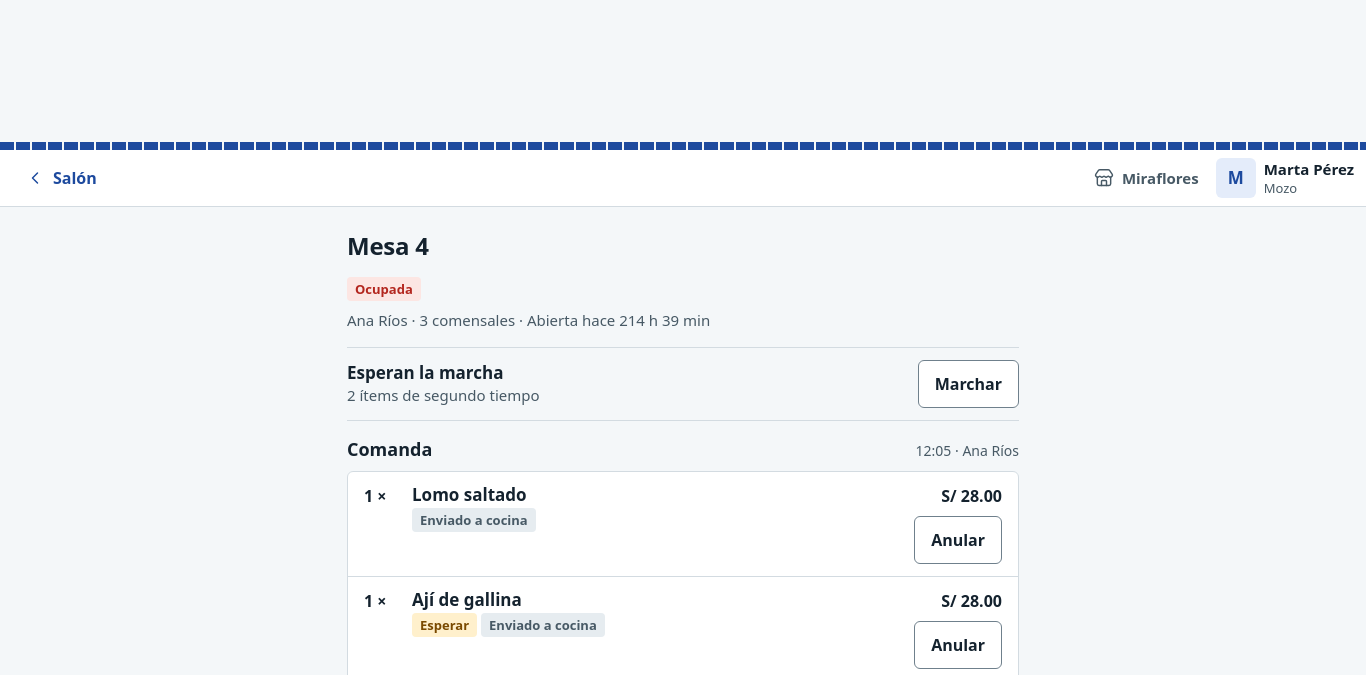
Scenario: Marchar (criterios 32 y 33) › sin red sale una sola vez: la misma clave y el mismo id en cada intento
The width and height of the screenshot is (1366, 675).
(page scrolled)
Step 1. Click the button "Marchar" → (968, 384), box [918, 360, 1019, 408]
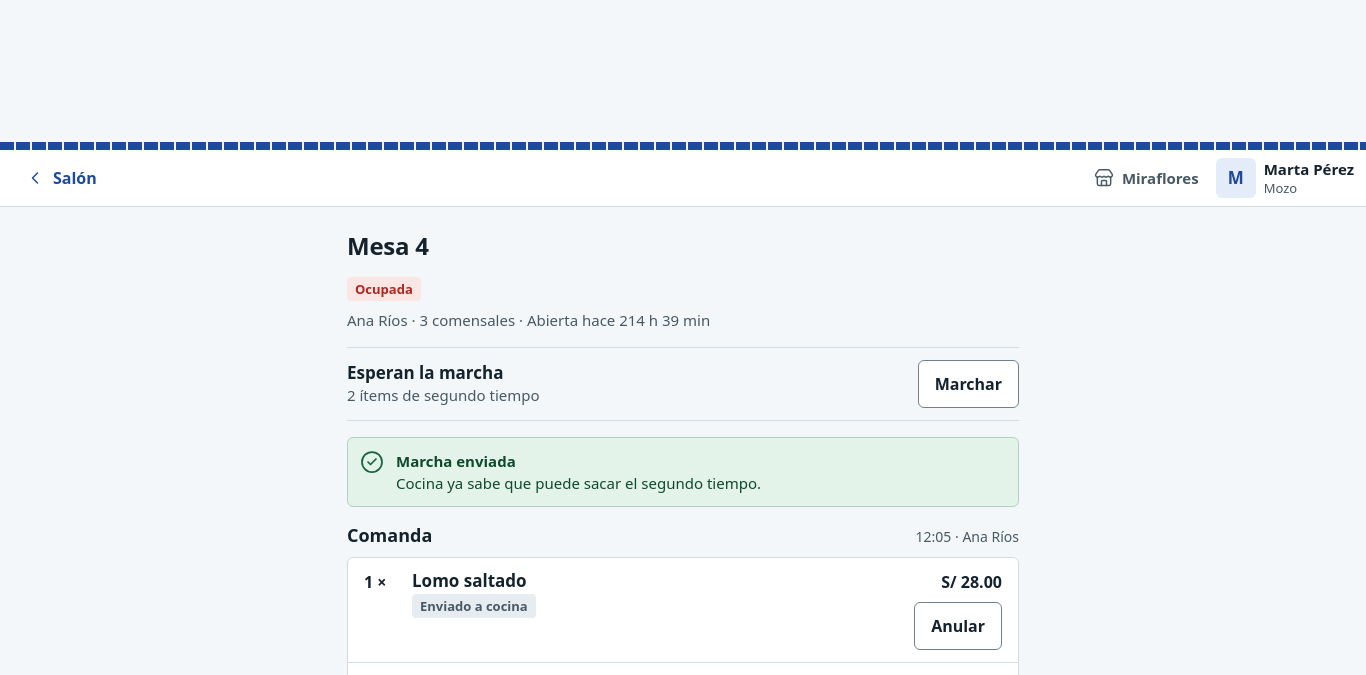
expect the text "Marcha enviada" is shown: met, box [396, 451, 516, 471]
